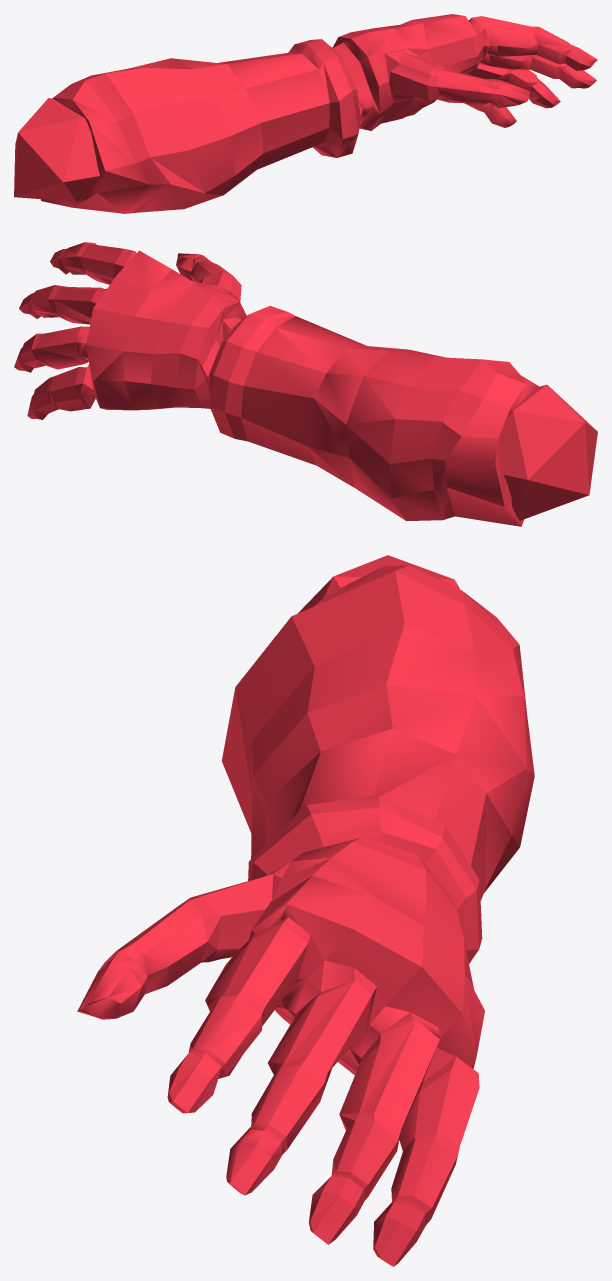
File: right_forearm.fbx
The picture shows the model from 3 angles, top to bottom: view 1: azimuth 30°, elevation 25°; view 2: azimuth 150°, elevation 25°; view 3: azimuth 270°, elevation 25°; orthographic projection. The views are drawn at different scales.
Parts seen in each view (by area): view 1: right_forearm; view 2: right_forearm; view 3: right_forearm.
Boxes of the visible parts, box(x1,y1,x2,y2) form: right_forearm: box(14, 14, 597, 213); right_forearm: box(14, 242, 597, 526); right_forearm: box(77, 555, 534, 1266).
Size of the model in its own units: 0.5149 by 0.1365 by 0.1874.
